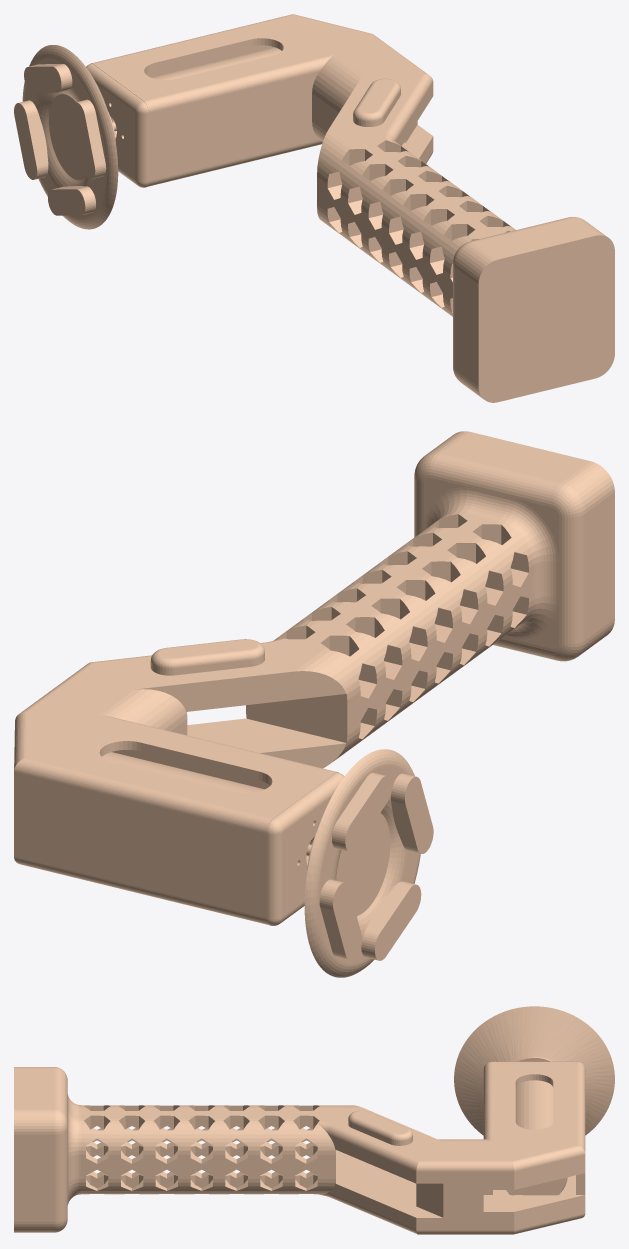
Rendered from Rock Grinding Tool Finalv.glb.
The picture shows the model from 3 angles, top to bottom: view 1: azimuth 30°, elevation 25°; view 2: azimuth 150°, elevation 25°; view 3: azimuth 270°, elevation 25°; orthographic projection. The views are drawn at different scales.
Size of the model in its own units: 113 by 59.99 by 224.
